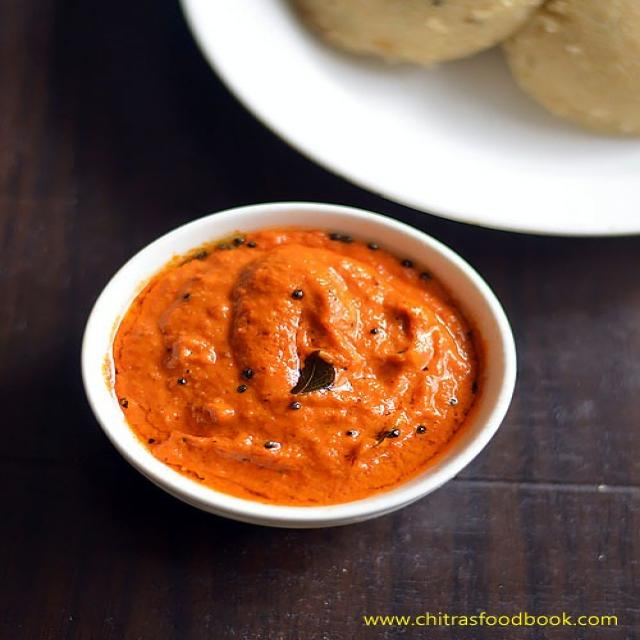kaara chutney: (81, 217, 523, 528)
